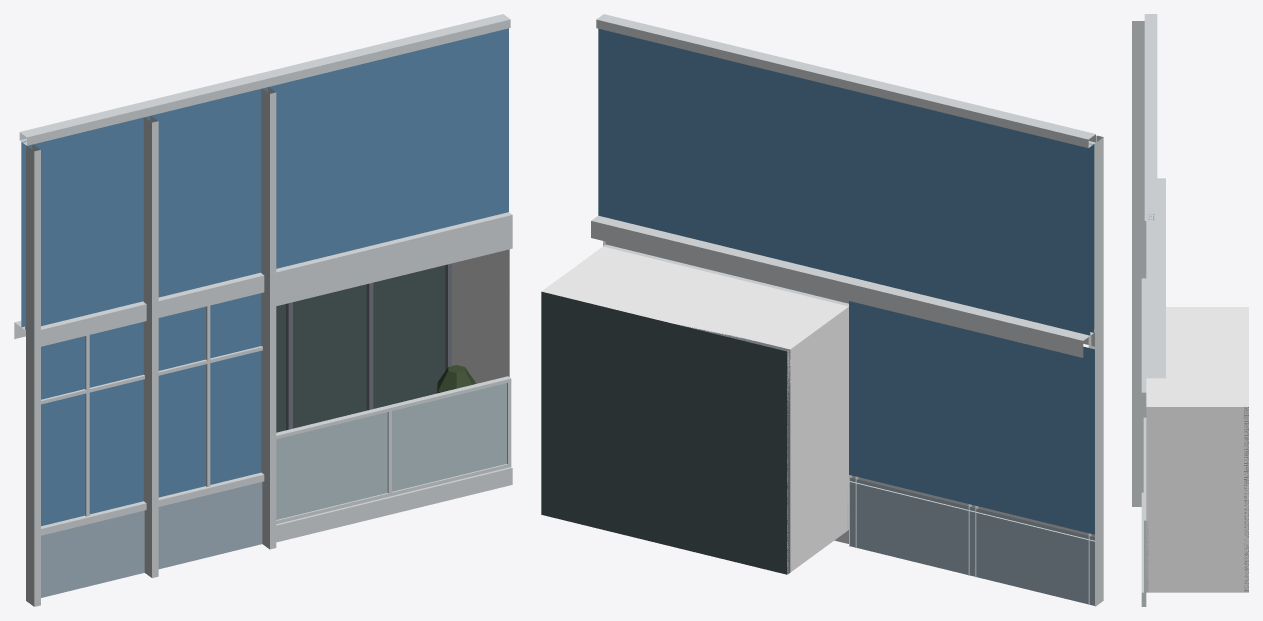
The model's file is top-w1_close.fbx.
3 views of the same model, side by side, from view 1: azimuth 30°, elevation 25°; view 2: azimuth 150°, elevation 25°; view 3: azimuth 270°, elevation 25° (orthographic). The views are drawn at different scales.
Parts seen in each view (by area): view 1: a2007/750/top-w1_close; view 2: a2007/750/top-w1_close; view 3: a2007/750/top-w1_close.
Boxes of the visible parts, box(x1,y1,x2,y2) form: a2007/750/top-w1_close: box(14, 14, 512, 606); a2007/750/top-w1_close: box(541, 14, 1103, 606); a2007/750/top-w1_close: box(1132, 14, 1248, 606).
Bounding box in the file's own units: 6 × 5.5 × 1.48.
